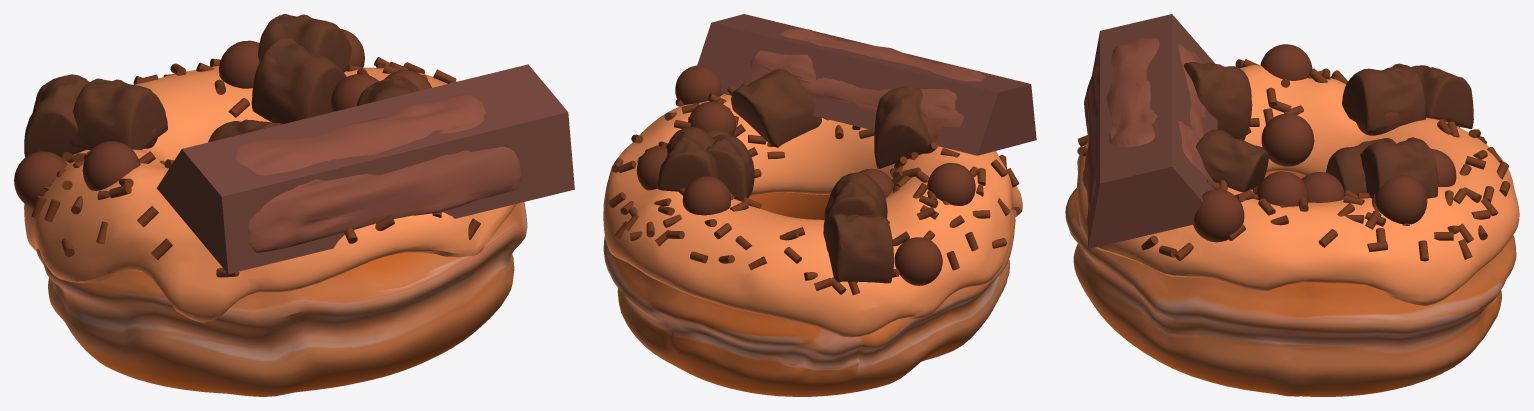
File: donunqello2.glb
3 renders of one model, left to right at view 1: azimuth 30°, elevation 25°; view 2: azimuth 150°, elevation 25°; view 3: azimuth 270°, elevation 25°, orthographic. The views are drawn at different scales.
Parts seen in each view (by area): view 1: donut; view 2: donut; view 3: donut.
Boxes of the visible parts, left/top/right/bottom form: donut: left=14, top=14, right=574, bottom=396; donut: left=603, top=14, right=1036, bottom=396; donut: left=1065, top=14, right=1519, bottom=396.
Size of the model in its own units: 0.2454 by 0.1526 by 0.2435.
7 materials, 1 textured.
